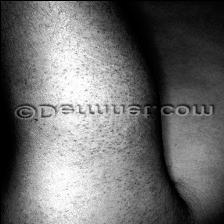Non-Cancerous Skin Condition: (72, 32, 136, 99)
